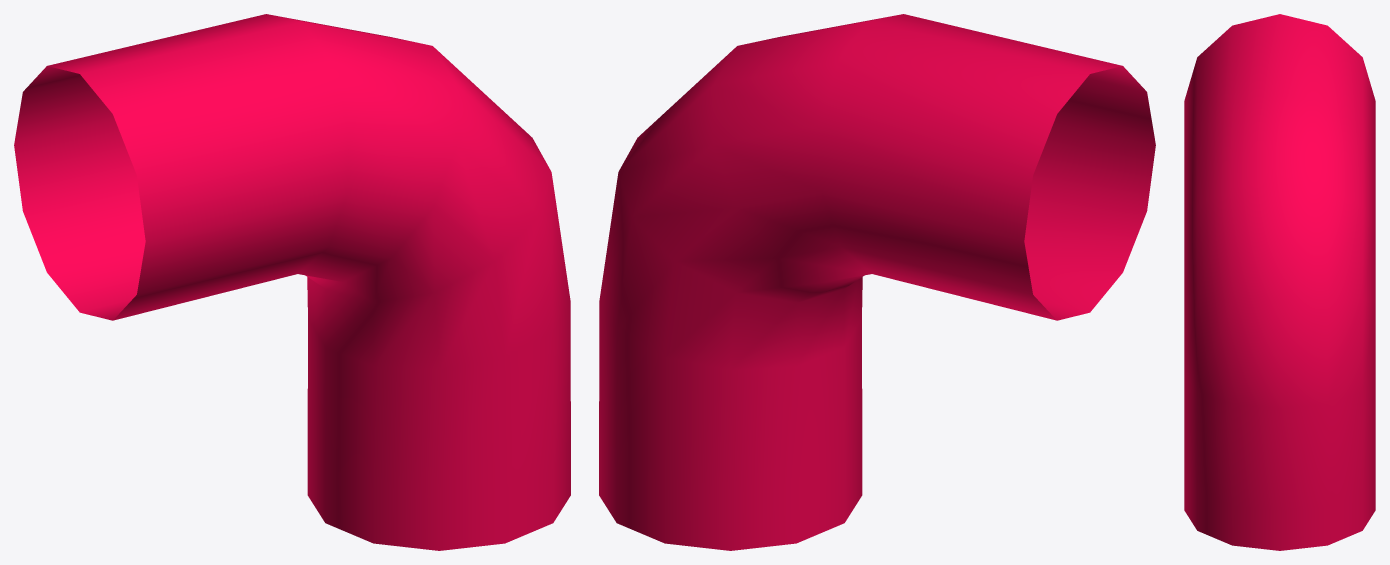
Rendered from pipe_k.FBX.
The picture shows the model from 3 angles, left to right: view 1: azimuth 30°, elevation 25°; view 2: azimuth 150°, elevation 25°; view 3: azimuth 270°, elevation 25°; orthographic projection. The views are drawn at different scales.
Parts seen in each view (by area): view 1: pipe_k; view 2: pipe_k; view 3: pipe_k.
Boxes of the visible parts, <box> form: pipe_k: <box>14,14,570,550</box>; pipe_k: <box>599,14,1155,550</box>; pipe_k: <box>1184,14,1375,550</box>.
Bounding box in the file's own units: 13.29 × 13.65 × 6.4.
